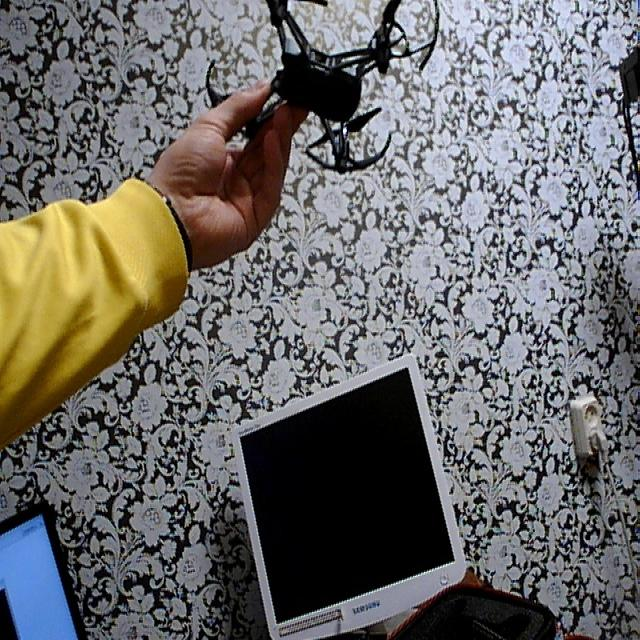drone: (189, 0, 450, 182)
